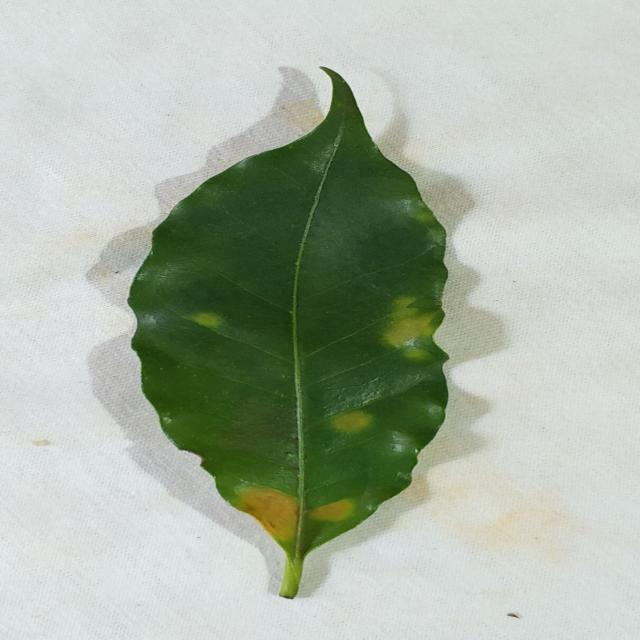Enfermedad-Roya: (126, 71, 449, 601)
